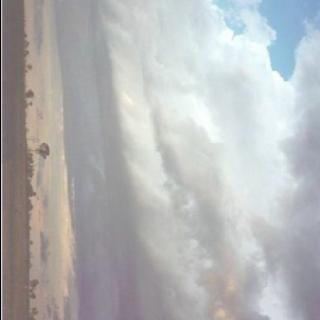Stratus: (29, 0, 320, 320)
